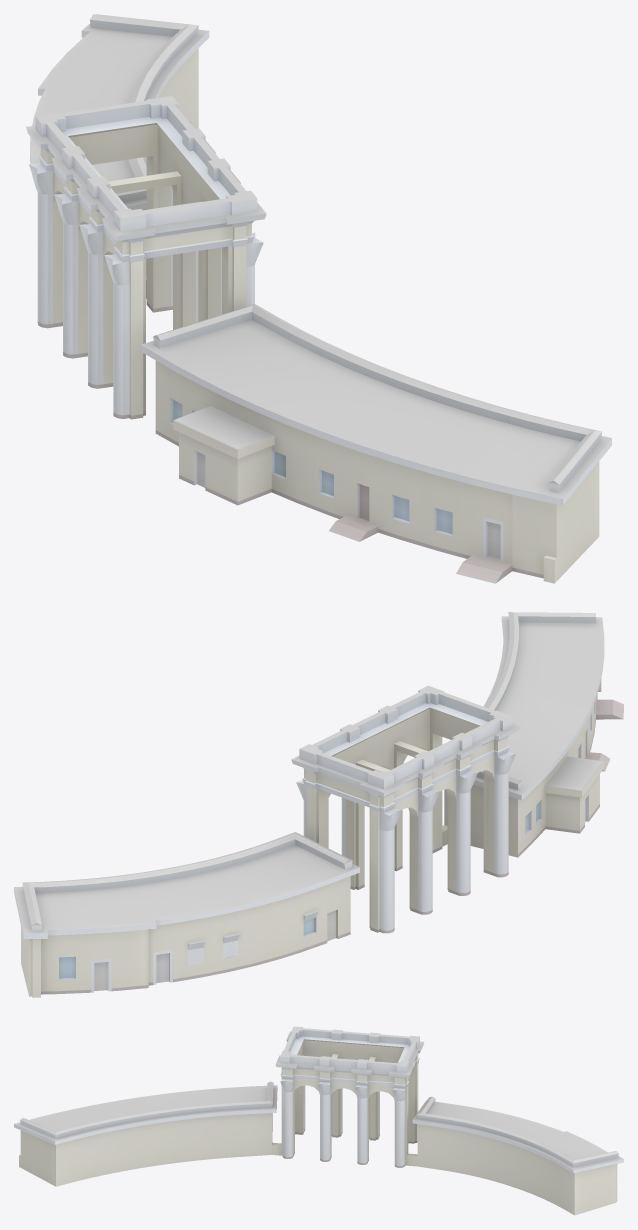
The model's file is novokuznetskgate (4).glb.
3 renders of one model, top to bottom at view 1: azimuth 30°, elevation 25°; view 2: azimuth 150°, elevation 25°; view 3: azimuth 270°, elevation 25°, orthographic. The views are drawn at different scales.
Visible parts, largest first — view 1: novokuznetsgate; view 2: novokuznetsgate; view 3: novokuznetsgate.
Boxes of the visible parts, bbox=[...] form: novokuznetsgate: bbox=[26, 14, 611, 583]; novokuznetsgate: bbox=[14, 612, 623, 997]; novokuznetsgate: bbox=[14, 1026, 623, 1215].
Size of the model in its own units: 21.8 by 10.9 by 59.39.
Materials: 1 (1 with a texture image).
